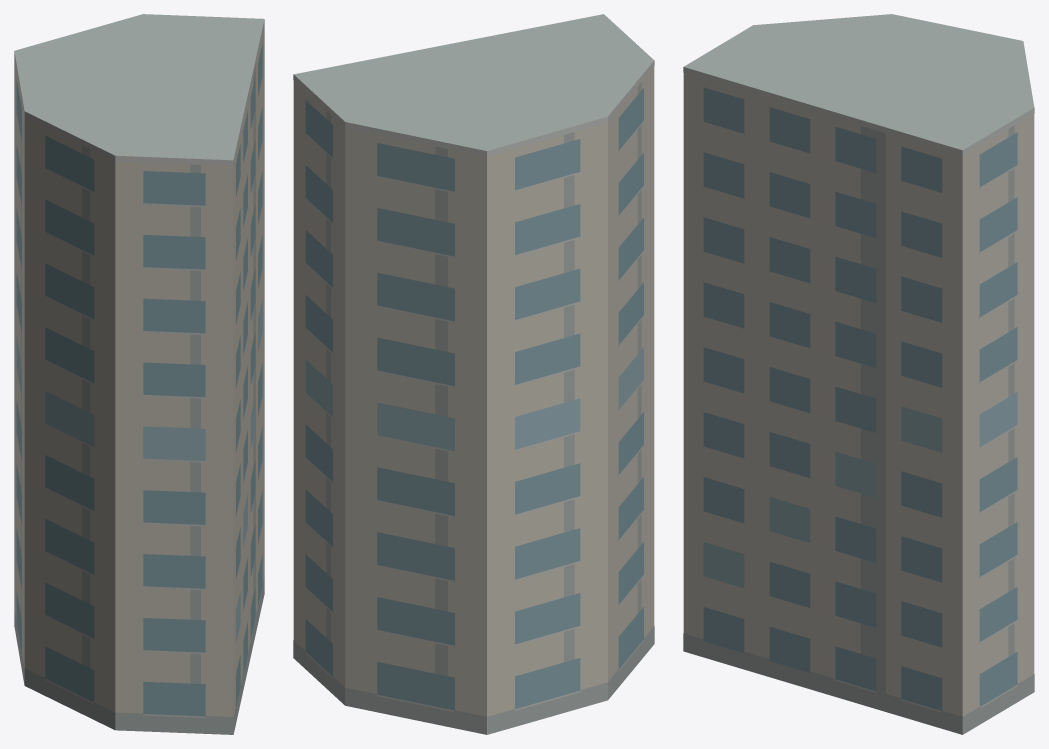
Rendered from residential-d36c9942-ae1e-430b-8f09-e0bea6318d79.glb.
3 views of the same model, side by side, from view 1: azimuth 30°, elevation 25°; view 2: azimuth 150°, elevation 25°; view 3: azimuth 270°, elevation 25° (orthographic).
Parts seen in each view (by area): view 1: residential-d36c9942-ae1e-430b-8f09-e0bea6318d79.tmp; view 2: residential-d36c9942-ae1e-430b-8f09-e0bea6318d79.tmp; view 3: residential-d36c9942-ae1e-430b-8f09-e0bea6318d79.tmp.
Boxes of the visible parts, x1,y1,x2,y2 form: residential-d36c9942-ae1e-430b-8f09-e0bea6318d79.tmp: (14,14,264,734); residential-d36c9942-ae1e-430b-8f09-e0bea6318d79.tmp: (293,14,654,734); residential-d36c9942-ae1e-430b-8f09-e0bea6318d79.tmp: (683,14,1034,734).
Size of the model in its own units: 12.01 by 24 by 13.07.
